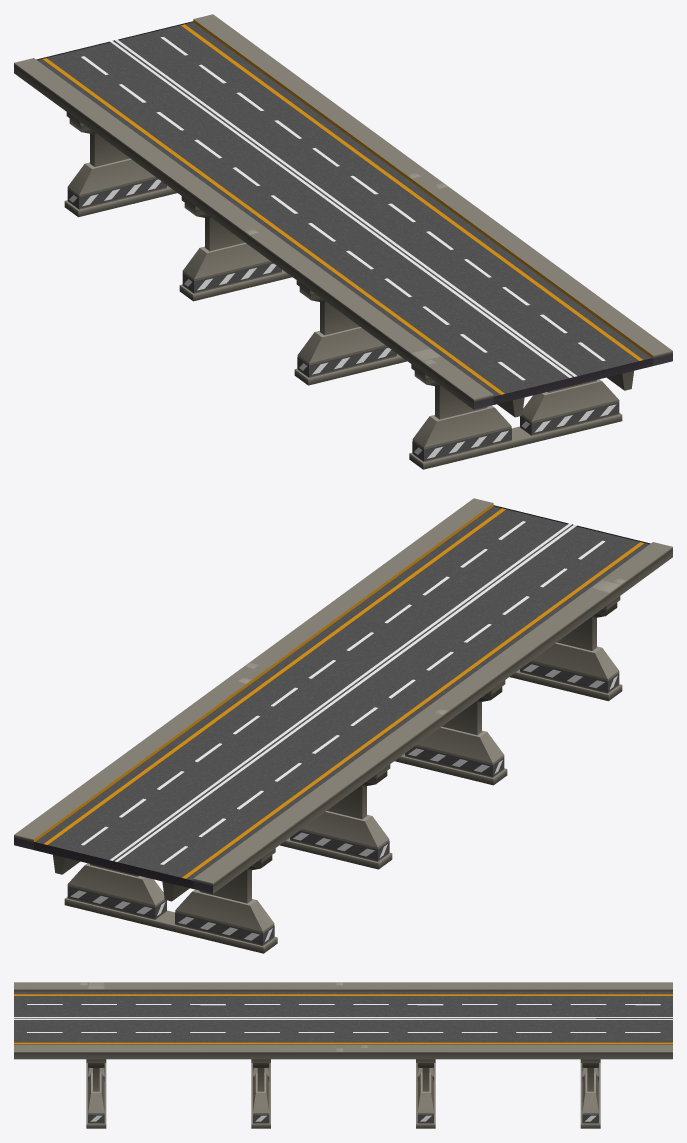
The model's file is Road10.fbx.
3 views of the same model, one above another, from view 1: azimuth 30°, elevation 25°; view 2: azimuth 150°, elevation 25°; view 3: azimuth 270°, elevation 25° (orthographic). The views are drawn at different scales.
Parts seen in each view (by area): view 1: Object050; view 2: Object050; view 3: Object050.
Part boxes in pixels (<box>): Object050: <box>14,14,672,469</box>; Object050: <box>14,498,672,953</box>; Object050: <box>14,982,672,1128</box>.
Bounding box in the file's own units: 37372 × 19352 × 149489.
